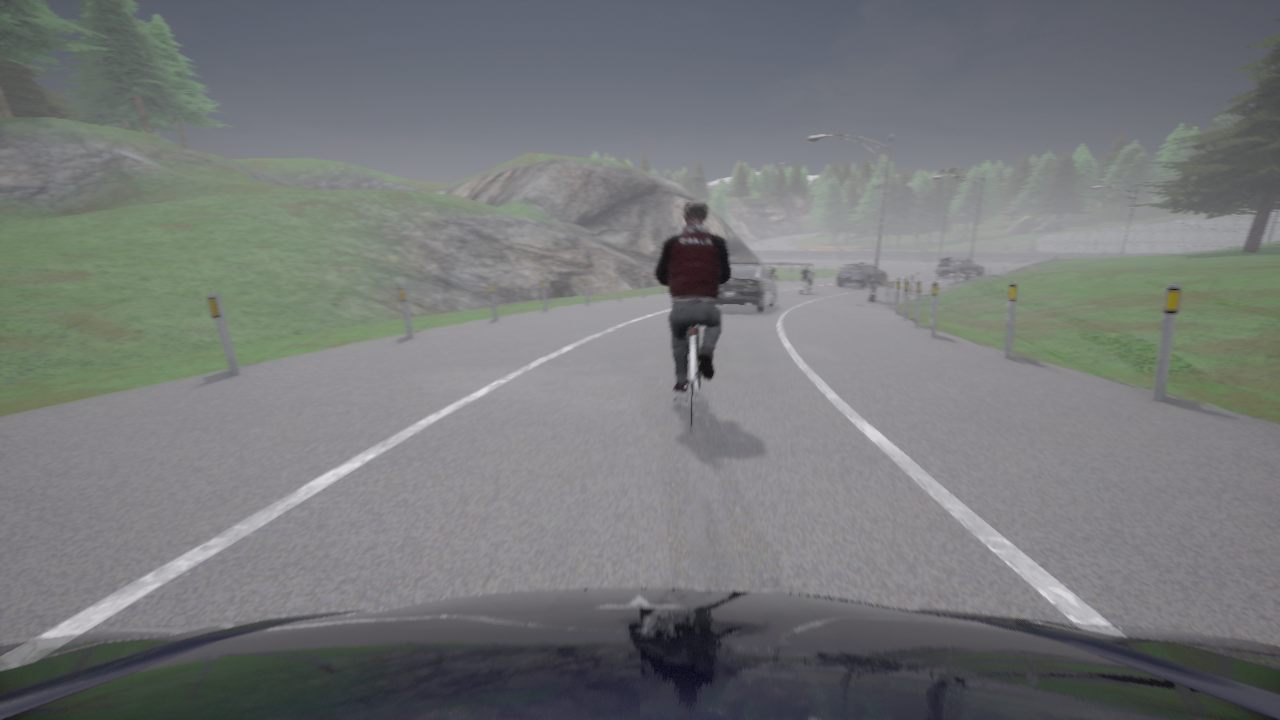cyclist: (0, 588, 1279, 719), (716, 261, 776, 312), (674, 325, 699, 433), (837, 262, 886, 287), (934, 257, 985, 277), (798, 272, 815, 293)
